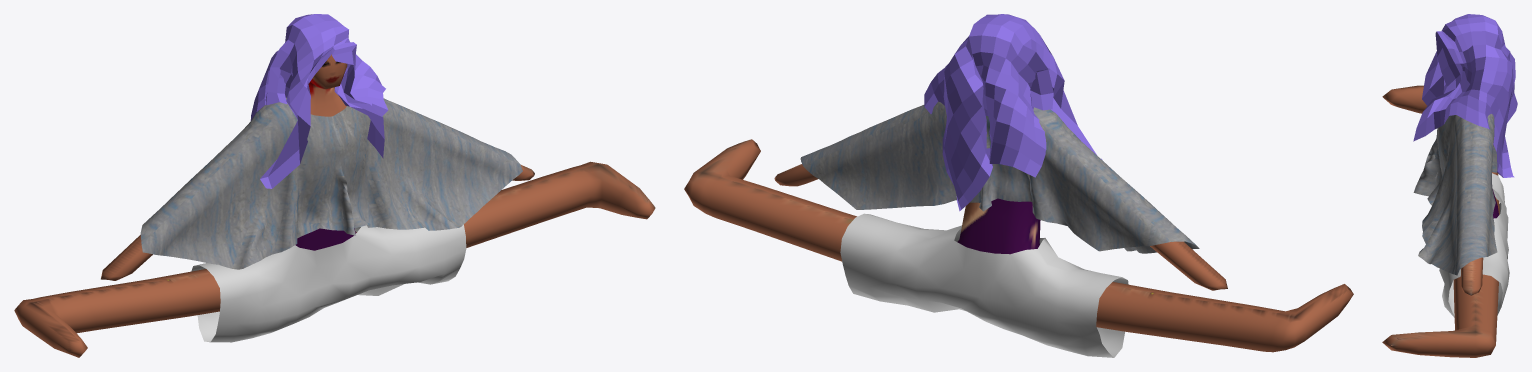
The model's file is doll.dae.
3 renders of one model, left to right at view 1: azimuth 30°, elevation 25°; view 2: azimuth 150°, elevation 25°; view 3: azimuth 270°, elevation 25°, orthographic. The views are drawn at different scales.
Parts seen in each view (by area): view 1: top, body, bottom, hair; view 2: body, top, bottom, hair; view 3: top, hair, body, bottom.
Boxes of the visible parts, x1,y1,x2,y2 form: top: (140,97,522,269); body: (14,54,655,357); bottom: (191,224,466,342); hair: (250,14,388,188); body: (684,139,1353,352); top: (800,101,1199,253); bottom: (840,213,1128,357); hair: (924,14,1102,211); top: (1413,114,1497,275); hair: (1413,14,1517,177); body: (1382,85,1499,357); bottom: (1439,173,1509,317).
Bounding box in the file's own units: 3.76 × 0.8426 × 1.81.
Materials: 4 (2 with a texture image).
